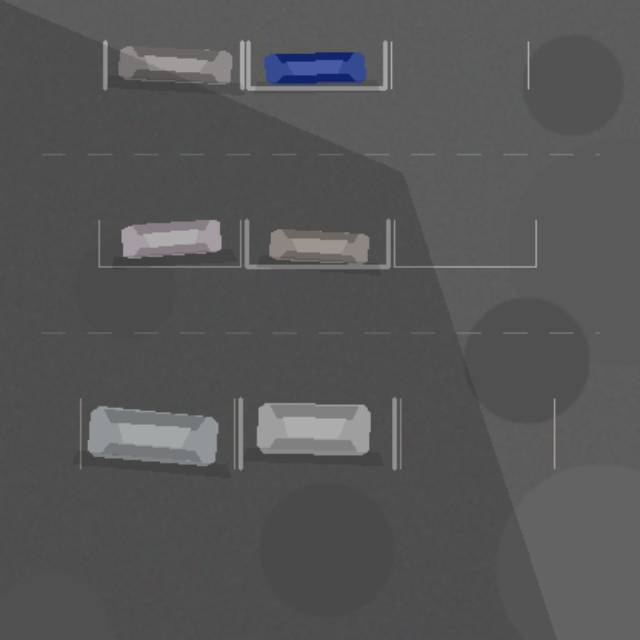space-empty: (400, 398, 554, 468), (394, 220, 535, 266), (391, 42, 528, 88)
space-occupied: (80, 398, 234, 468), (240, 398, 394, 468), (98, 220, 240, 266), (246, 220, 388, 266), (105, 42, 242, 88), (248, 42, 385, 88)
